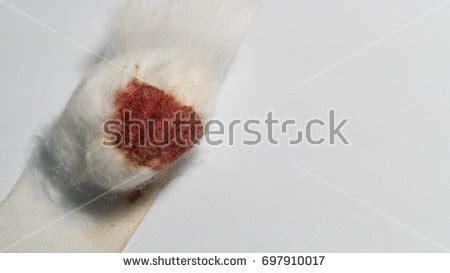cotton: (53, 52, 213, 195)
